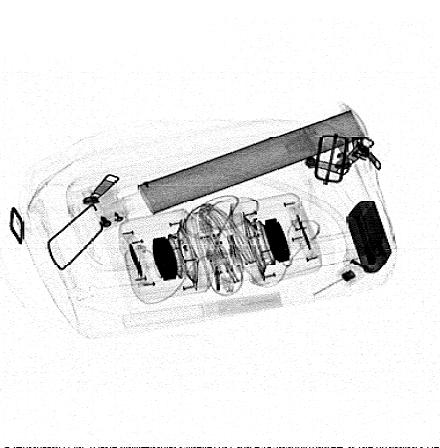Lighter: (346, 201, 393, 273)
